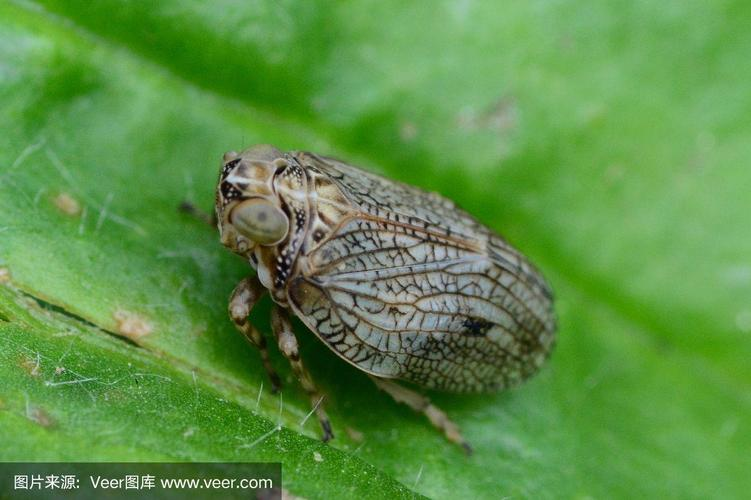Cicadellidae: (215, 145, 557, 449)
